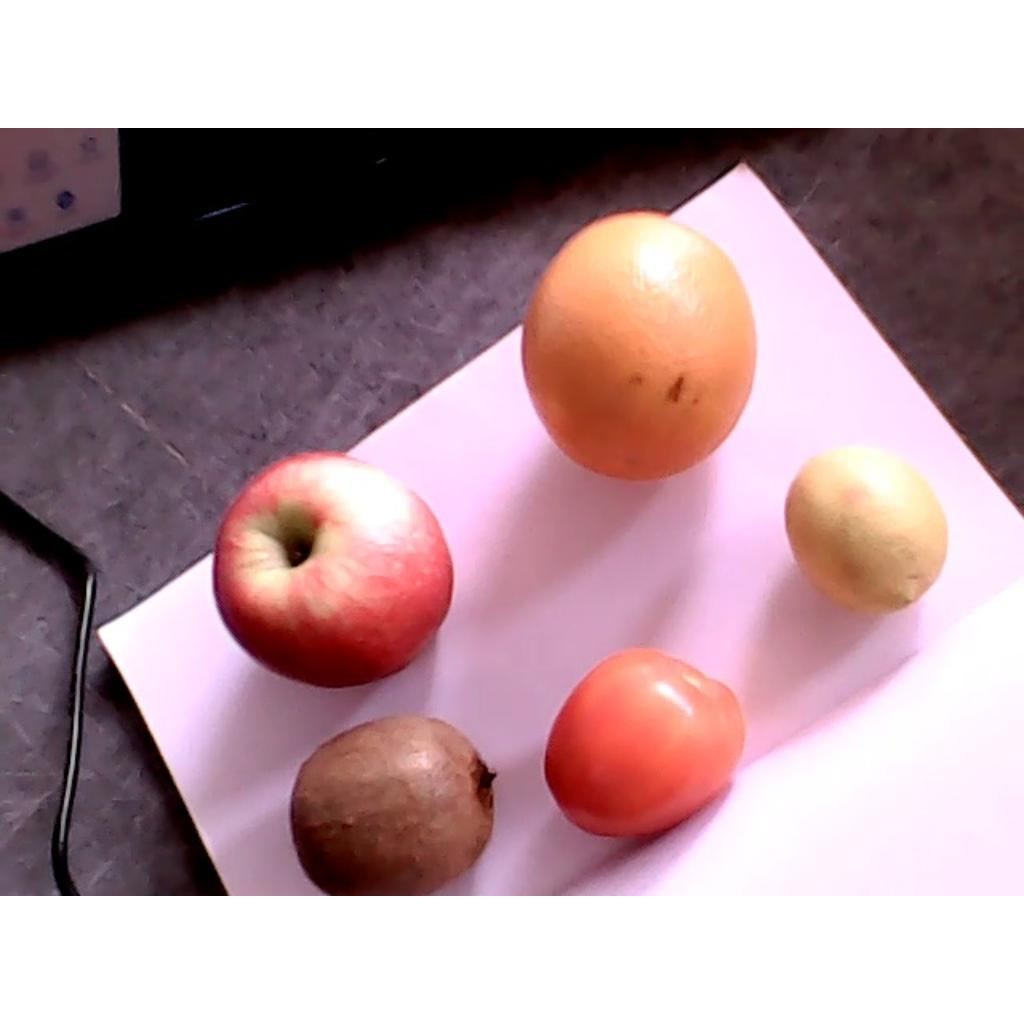apple: (213, 453, 453, 689)
kiwi: (290, 716, 498, 894)
lemon: (784, 444, 948, 616)
orange: (520, 212, 756, 479)
tomato: (544, 650, 747, 837)
